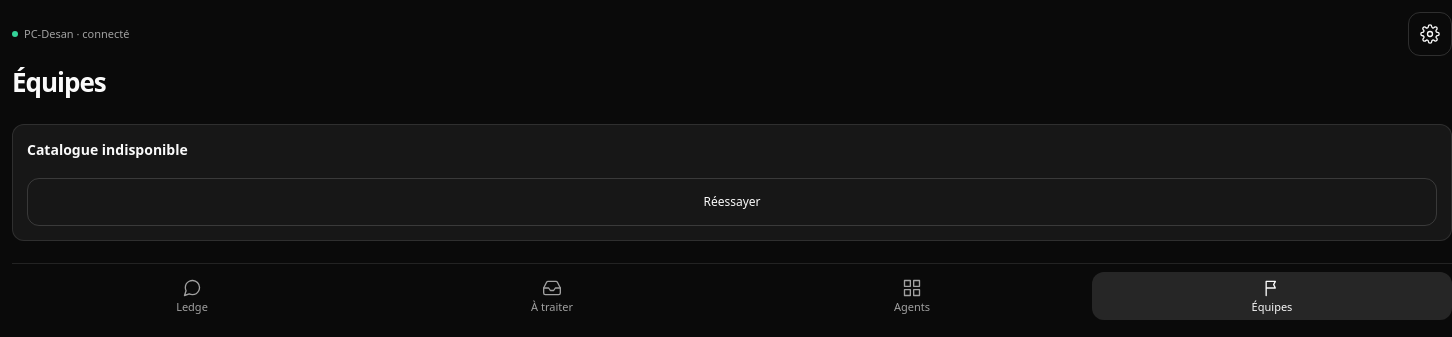
it: the catalog request › says « Catalogue indisponible » at once, without asking for an update, when a PC that serves the catalog refuses the read
The width and height of the screenshot is (1452, 337).
expect the text "Catalogue indisponible" is shown: met, box [27,140,188,159]
Click the button "Réessayer" at coordinates (732, 202), box [27,178,1437,226]
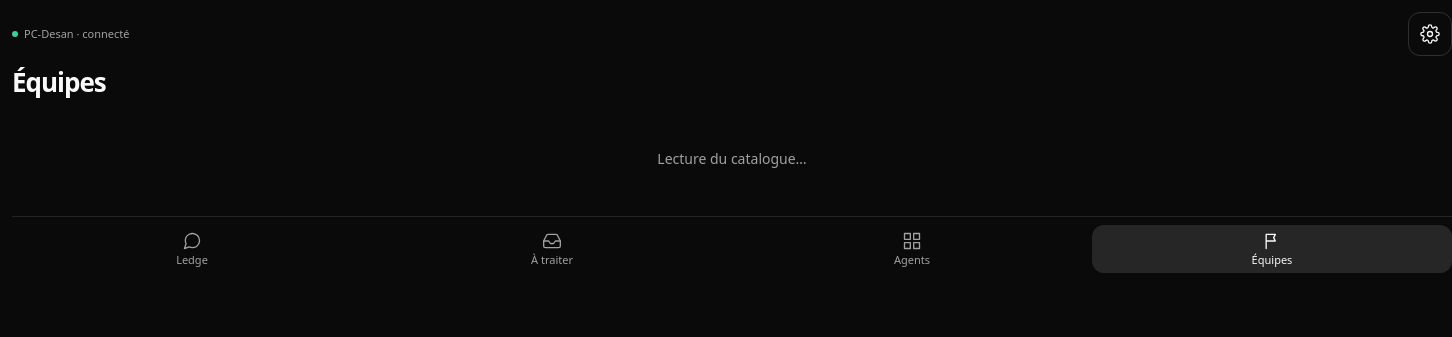
expect the text "Lecture du catalogue…" is shown: met, box [657,149,807,168]
